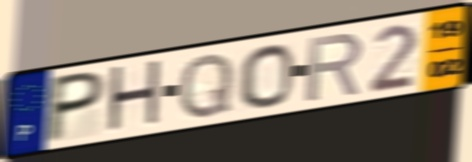2: (369, 20, 421, 95)
H: (104, 56, 164, 137)
O: (237, 42, 296, 109)
P: (40, 68, 110, 147)
Q: (176, 50, 236, 122)
R: (303, 30, 367, 105)
